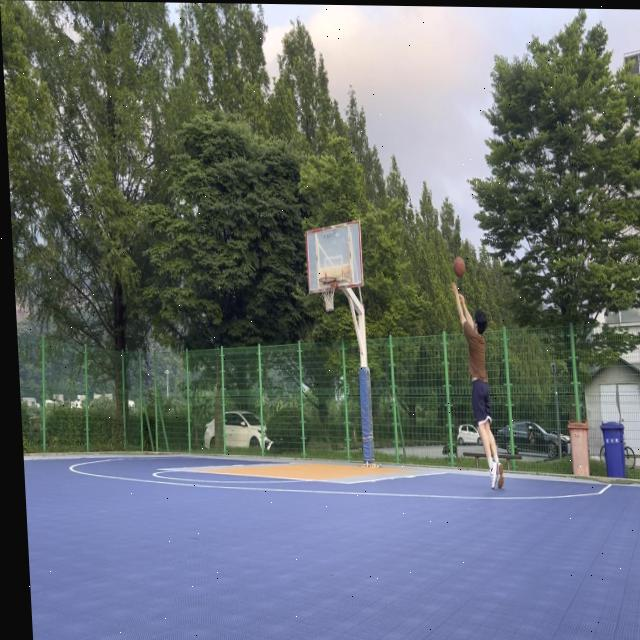basketball: (452, 257, 467, 279)
hoop: (319, 277, 338, 313)
